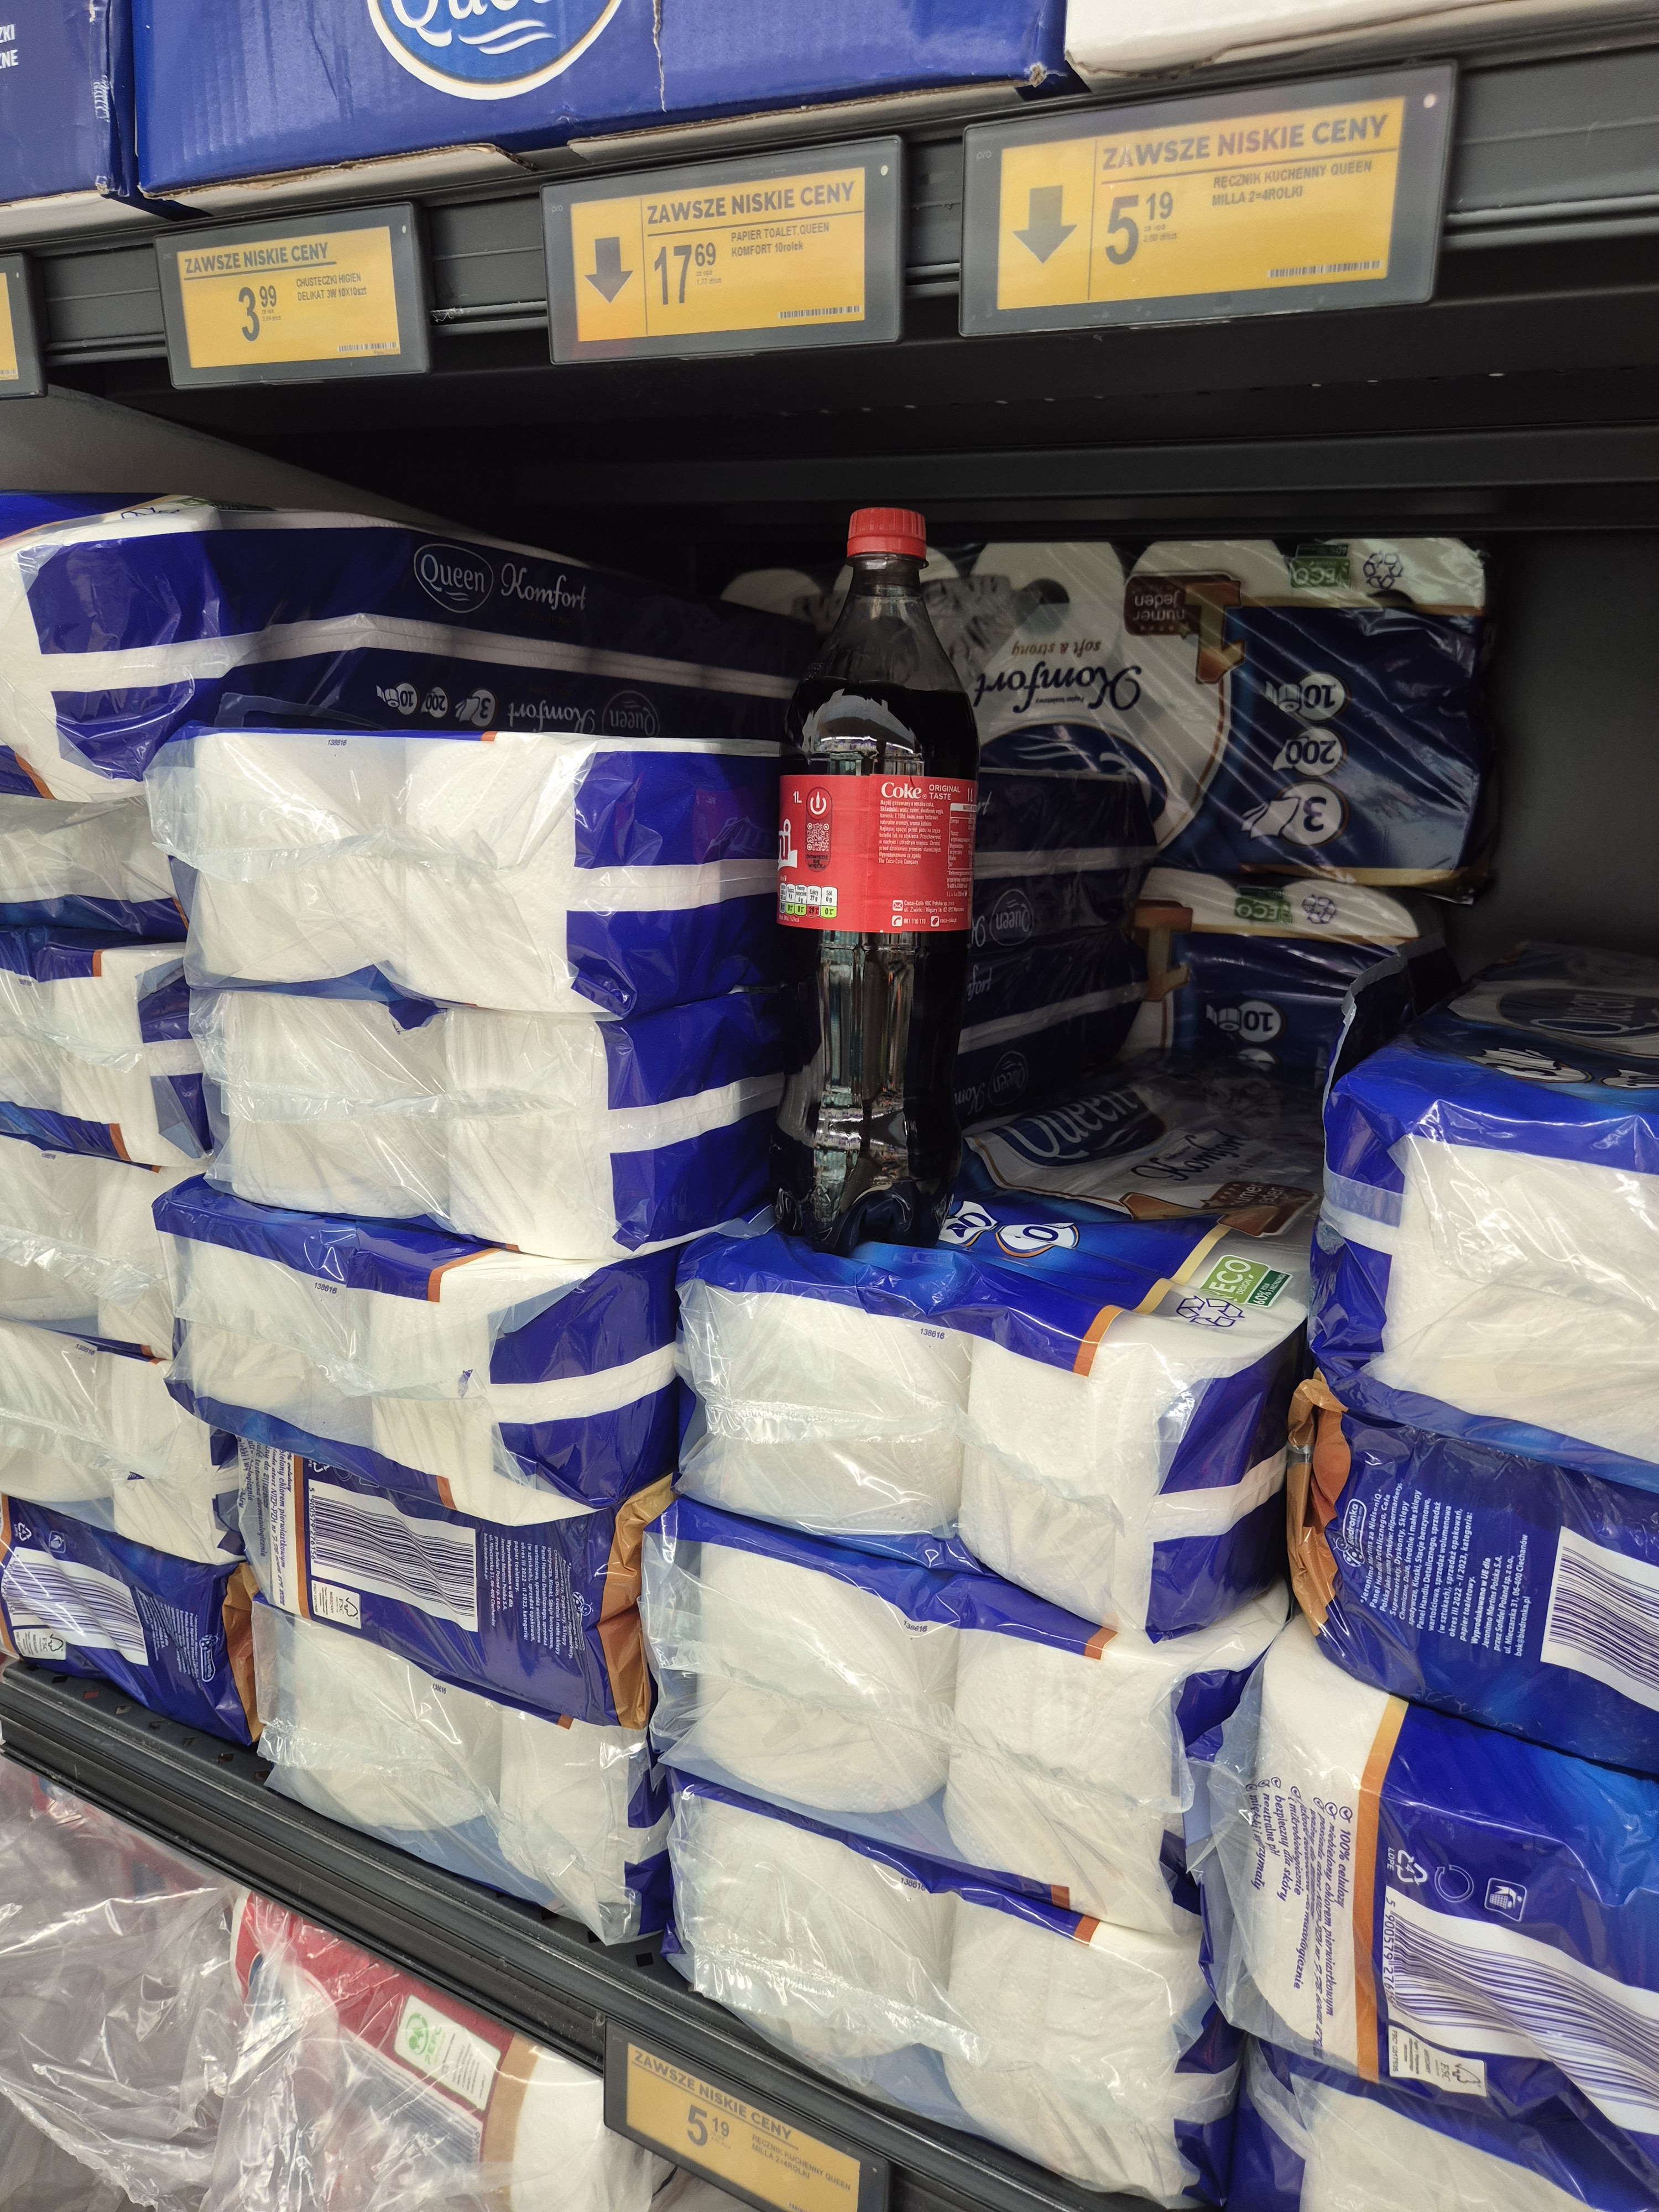Coca Cola: (751, 496, 999, 1251)
